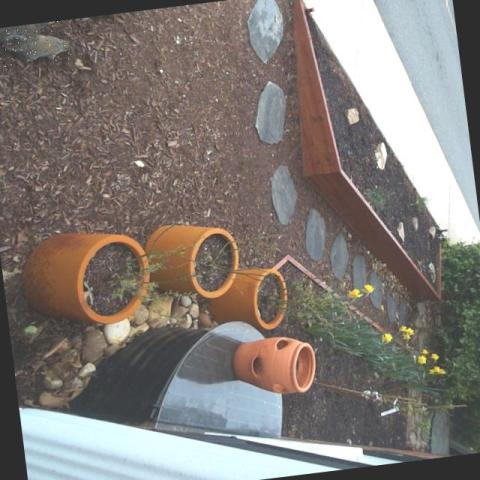small_animal: (2, 30, 74, 66)
